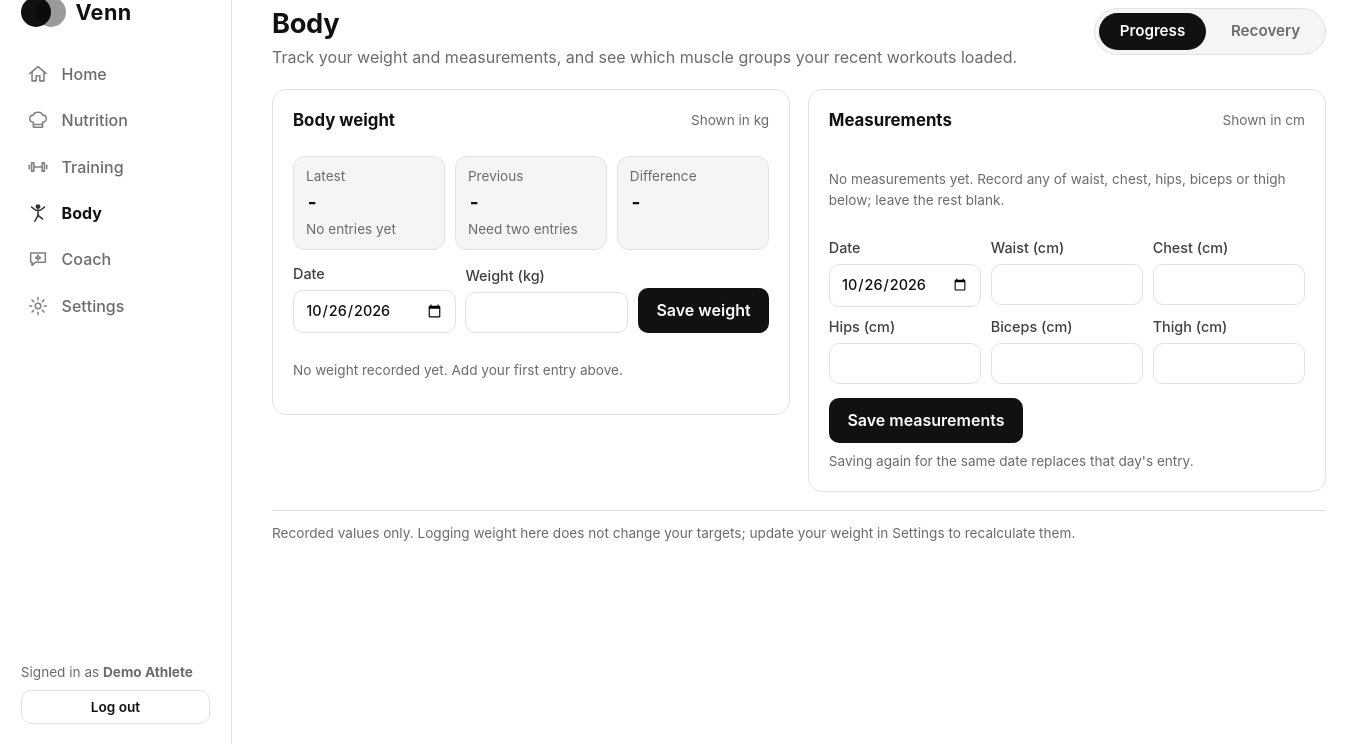
Test: body: recovery › switches views with the segmented toggle and shows indicators from the data
Click the tab "Recovery": (1266, 32) [1210, 13, 1321, 50]
(page scrolled)
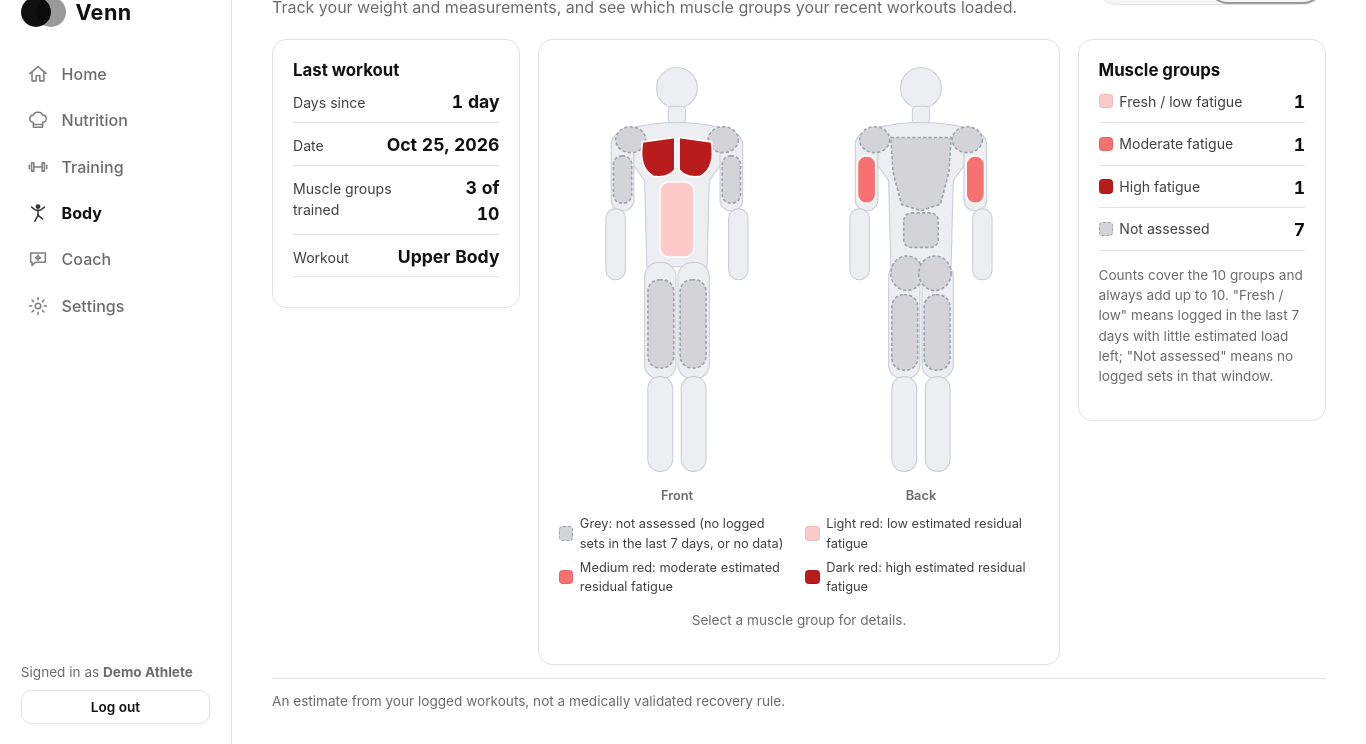
Expected: the text with test id "days-since" reads "1 day", [452, 91, 500, 112]
Expected: the text "3 of 10" is shown, [466, 176, 500, 224]
Expected: the text with test id "count-low" reads "1", [1294, 91, 1305, 112]
